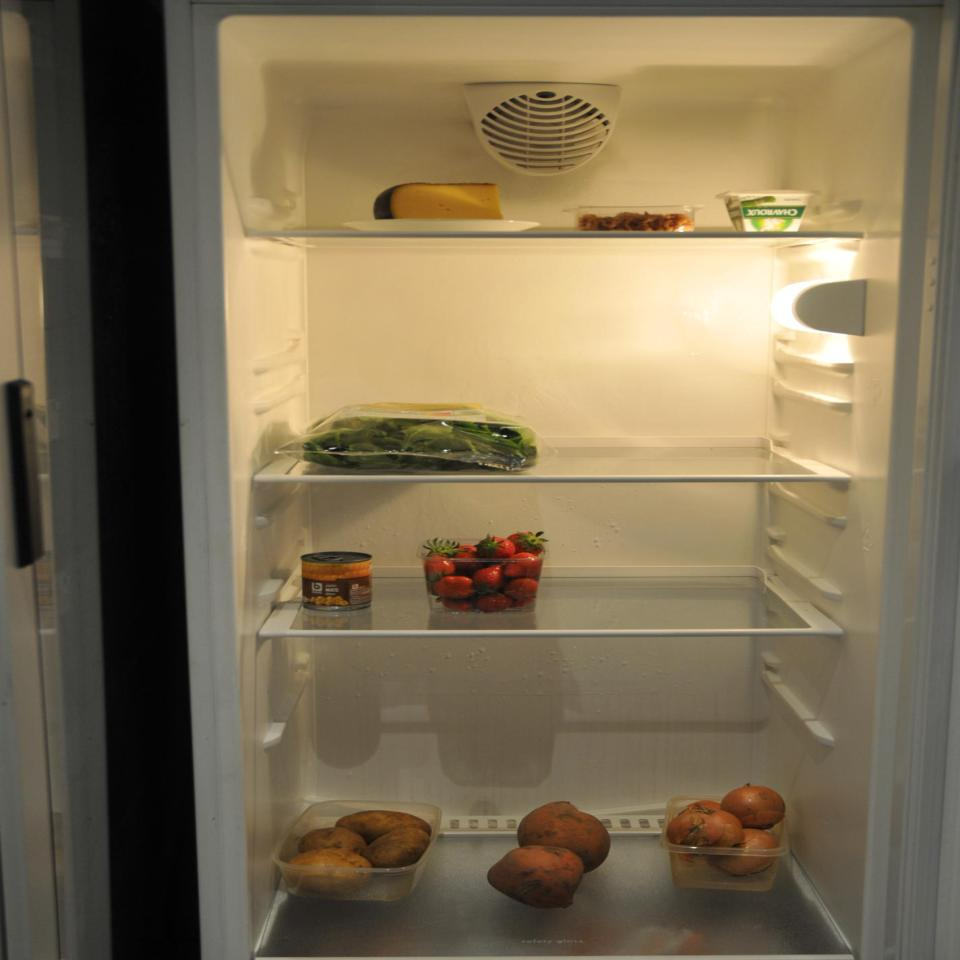Queso: (370, 179, 510, 227)
